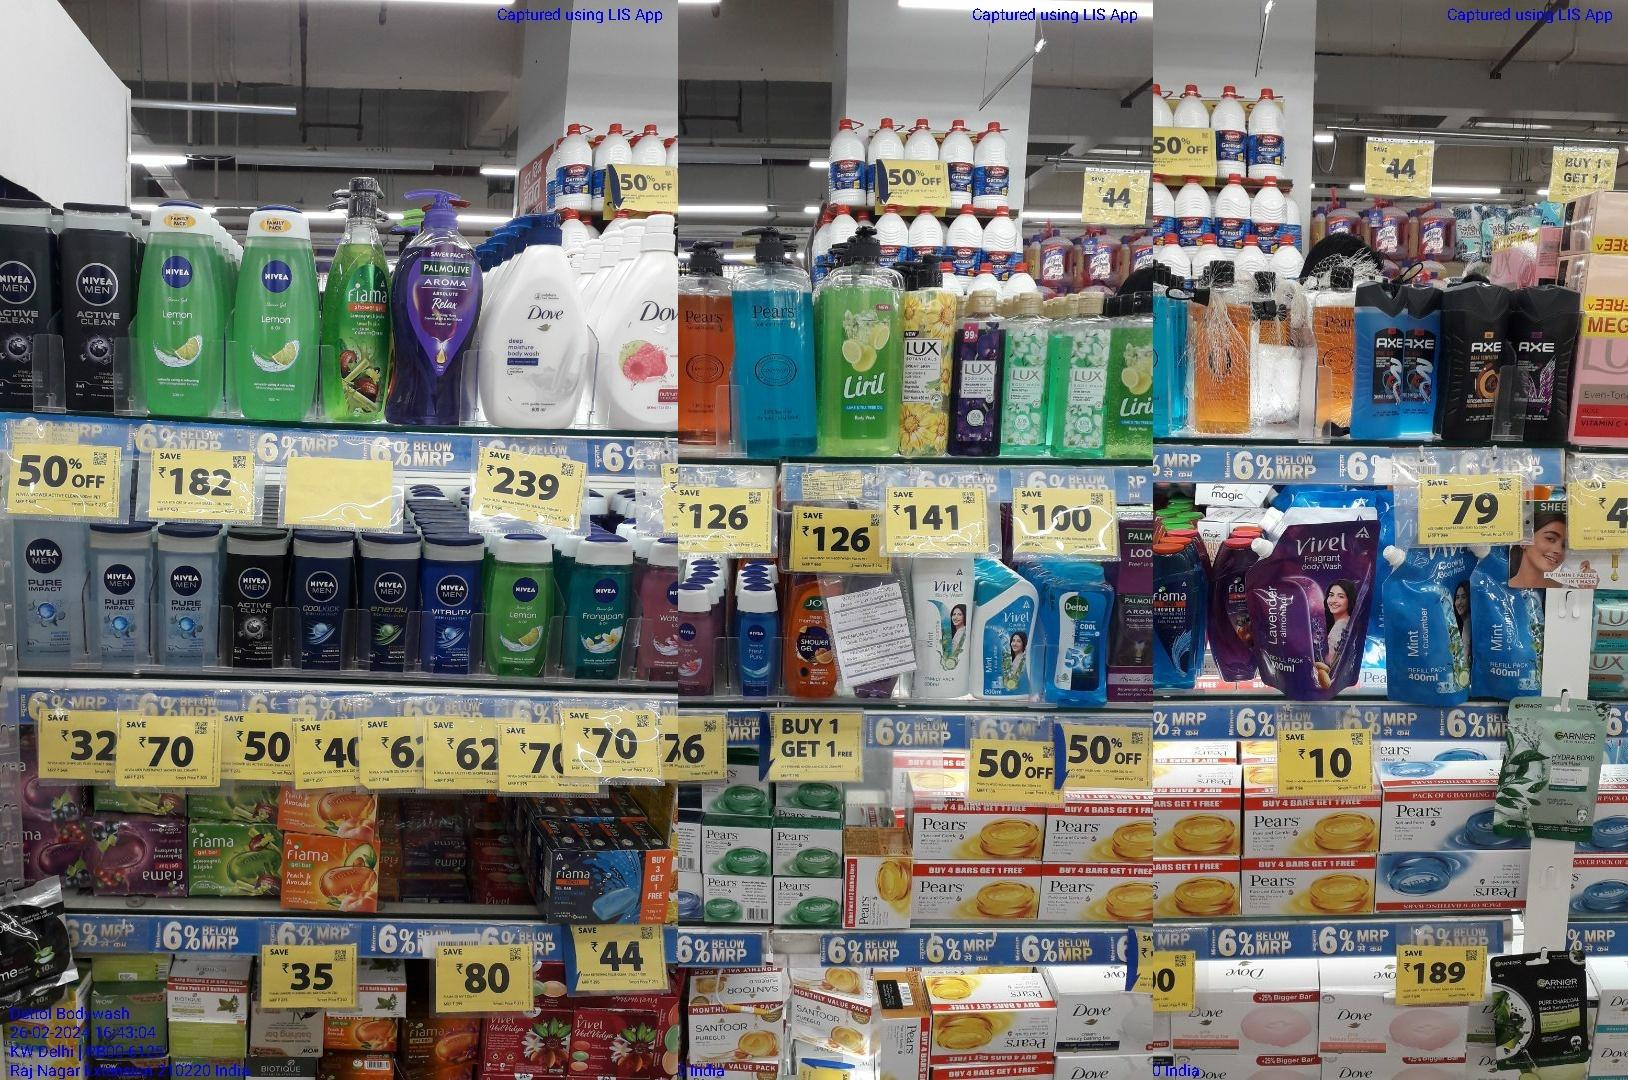Joy_Shower_Gel_Mandarin_and_Lemongrass_250ML: (787, 575, 836, 699)
Liril_Lime_and_Tea_Tree_Oil_Body_Wash_250ML: (1112, 288, 1157, 464)
Lux_Black_Orchid_Scent_and_Juniper_Oil_Body_Wash_245ML: (956, 288, 1007, 458)
Lux_Body_Wash_Skin_Detox_Freesia_Scent_and_Alove_Vera_245ML: (1063, 289, 1107, 457), (1010, 289, 1046, 454)
Nivea_Shower_Gel_Frangipani_and_Oil_250ML: (565, 535, 633, 686)
Nivea_Shower_Gel_Lemon_and_Oil_250ML: (239, 200, 318, 422), (143, 196, 217, 421), (493, 534, 557, 685)
